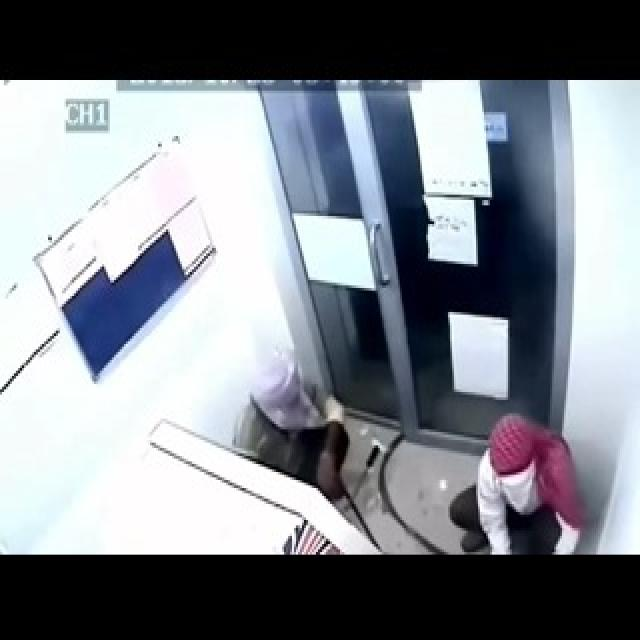thief: (223, 339, 572, 543)
